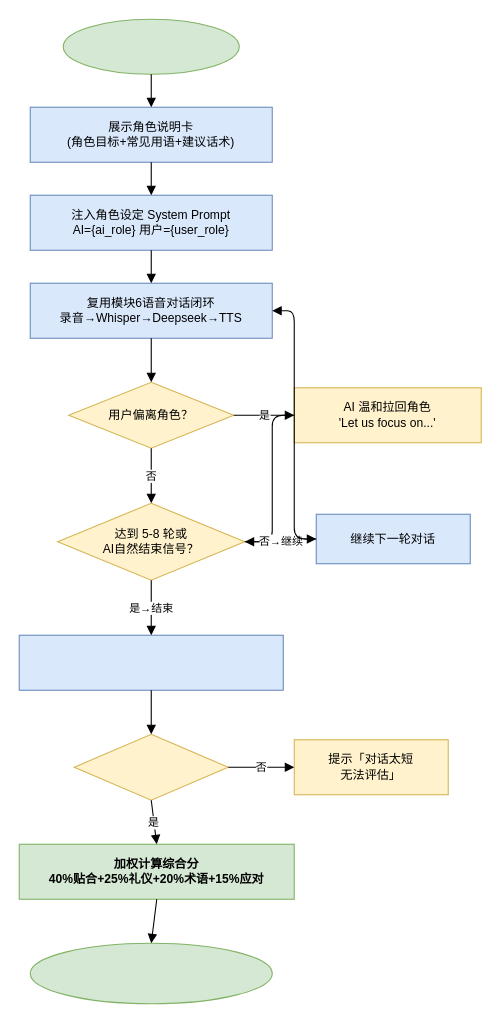
Image size: 501x1023. Some labels were removed from this diagram. The shapes that lost their labels are listed below. From the top down, each one's centre as x and y in pixels, then its label:
At (x=150, y=46): "用户选择角色".
At (x=150, y=662): "收集全对话记录 → Deepseek 角色贴合度四维评分".
At (x=150, y=766): "对话 ≥ 3 轮？".
At (x=150, y=973): "展示评分报告 + 改进建议 （含各维度评语）".
